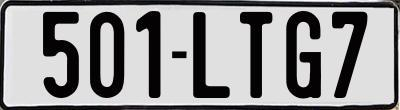0: (89, 10, 123, 99)
1: (133, 11, 164, 102)
5: (40, 10, 79, 101)
7: (331, 9, 371, 101)
G: (283, 11, 319, 105)
L: (193, 12, 235, 103)
T: (238, 12, 273, 103)
